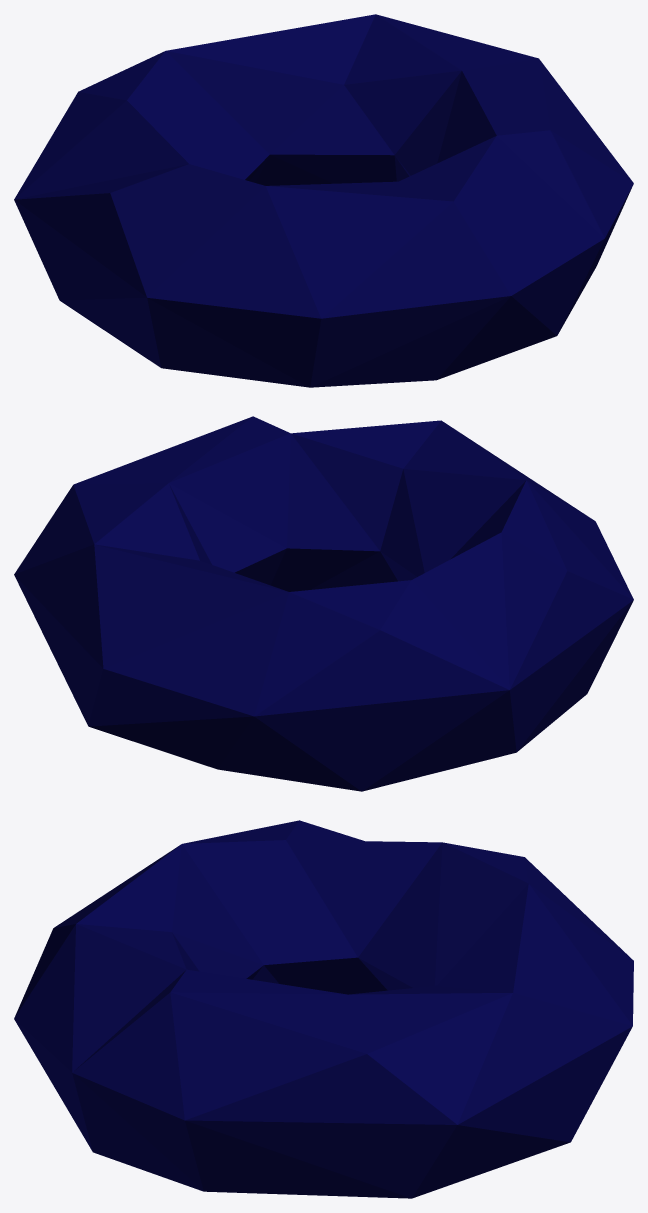
Rendered from 2_head__Layer_1_mtl.obj.
3 renders of one model, top to bottom at view 1: azimuth 30°, elevation 25°; view 2: azimuth 150°, elevation 25°; view 3: azimuth 270°, elevation 25°, orthographic. The views are drawn at different scales.
Visible parts, largest first — view 1: 2_head__Layer_1_mtl; view 2: 2_head__Layer_1_mtl; view 3: 2_head__Layer_1_mtl.
Boxes of the visible parts, left/top/right/bottom form: 2_head__Layer_1_mtl: left=14, top=14, right=633, bottom=387; 2_head__Layer_1_mtl: left=14, top=416, right=633, bottom=791; 2_head__Layer_1_mtl: left=14, top=820, right=633, bottom=1198.
Bounding box in the file's own units: 0.0119 × 0.00441 × 0.0125.
